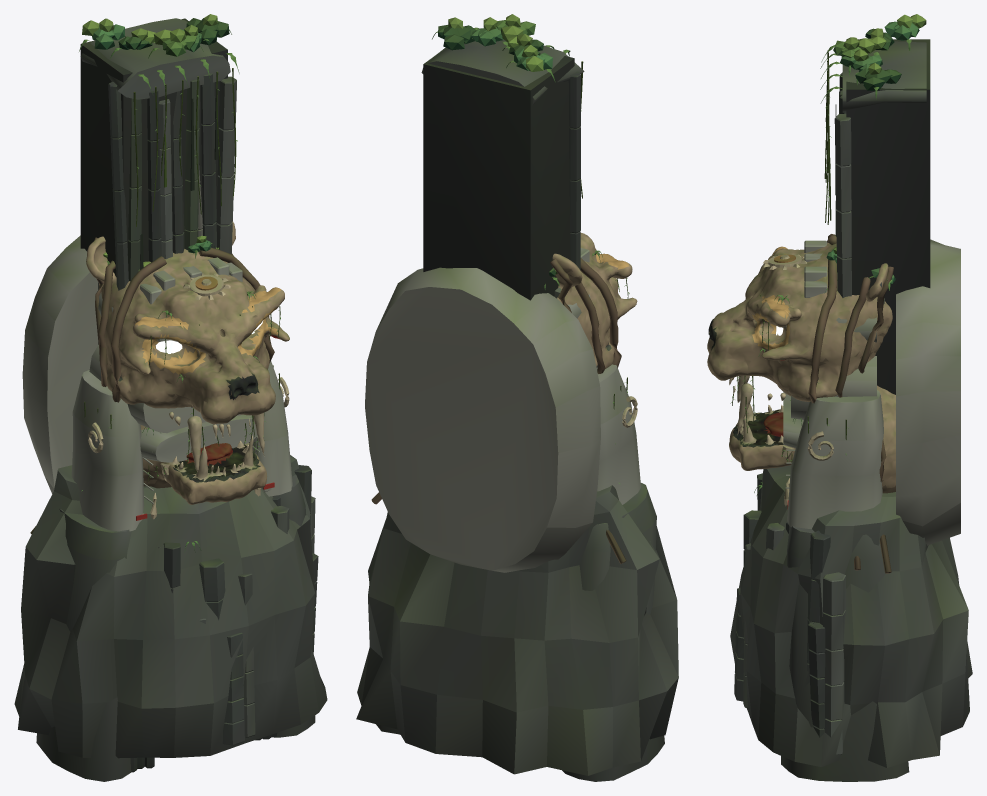
The model's file is wildheart_basin_kit.glb.
3 views of the same model, side by side, from view 1: azimuth 30°, elevation 25°; view 2: azimuth 150°, elevation 25°; view 3: azimuth 270°, elevation 25° (orthographic). The views are drawn at different scales.
Parts seen in each view (by area): view 1: Kit_JaguarHead, Kit_IdolMaw, Kit_BasaltCliff; view 2: Kit_JaguarHead, Kit_IdolMaw, Kit_BasaltCliff; view 3: Kit_JaguarHead, Kit_IdolMaw, Kit_BasaltCliff.
Part boxes in pixels (bbox=[...]): Kit_JaguarHead: bbox=[14, 221, 327, 758]; Kit_IdolMaw: bbox=[22, 235, 315, 781]; Kit_BasaltCliff: bbox=[79, 14, 239, 344]; Kit_JaguarHead: bbox=[356, 233, 678, 775]; Kit_IdolMaw: bbox=[365, 248, 664, 781]; Kit_BasaltCliff: bbox=[421, 14, 584, 300]; Kit_JaguarHead: bbox=[707, 234, 972, 767]; Kit_IdolMaw: bbox=[781, 239, 960, 781]; Kit_BasaltCliff: bbox=[820, 14, 930, 394].
Bounding box in the file's own units: 84.05 × 199 × 69.53.
